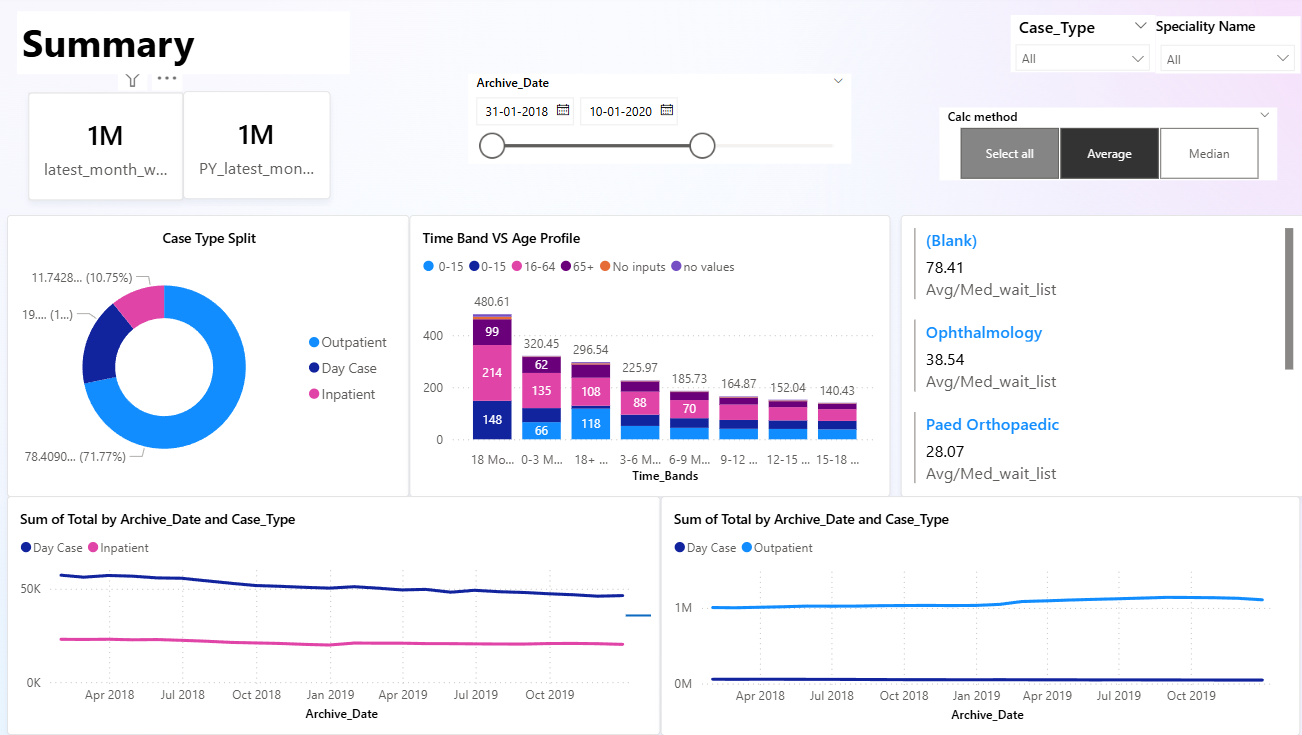

Layout of this report page (visuals, bound fields, positions):
{"tool":"powerbi","page":{"name":"Summary","canvas":[1280,720],"ordinal":0},"visuals":[{"type":"card","fields":{"Values":["All_Data.latest_month_wait_list"]},"box":[30.2,90.6,152.3,105.7],"z":0},{"type":"card","fields":{"Values":["All_Data.PY_latest_month_wait_list"]},"box":[182.5,89.2,144.1,105.7],"z":1000},{"type":"slicer","fields":{"Values":["Calculation Method.Calc method"]},"box":[922.1,105.7,330.7,71.4],"z":2000},{"type":"donutChart","title":"Case Type Split","fields":{"Category":["All_Data.Case_Type"],"Y":["All_Data.Avg/Med_wait_list"]},"box":[9.6,209.9,393.8,275.8],"z":3000},{"type":"columnChart","title":"Time Band VS Age Profile","fields":{"Series":["All_Data.Age_Profile"],"Y":["All_Data.Avg/Med_wait_list"],"Category":["All_Data.Time_Bands"]},"box":[403.4,209.9,470.7,275.8],"z":4000},{"type":"multiRowCard","fields":{"Values":["All_Data.Specialty_Name","All_Data.Avg/Med_wait_list"]},"box":[883.7,209.9,396.6,275.8],"z":5000},{"type":"lineChart","fields":{"Category":["All_Data.Archive_Date"],"Y":["Sum(All_Data.Total)"],"Series":["All_Data.Case_Type"]},"box":[9.6,485.8,639.5,233.3],"z":6000},{"type":"lineChart","fields":{"Category":["All_Data.Archive_Date"],"Y":["Sum(All_Data.Total)"],"Series":["All_Data.Case_Type"]},"box":[649.1,485.8,625.7,234.6],"z":7000},{"type":"slicer","fields":{"Values":["All_Data.Archive_Date"]},"box":[461.1,72.7,374.6,87.8],"z":8000},{"type":"slicer","fields":{"Values":["All_Data.Case_Type"]},"box":[992.1,15.1,141.3,56.3],"z":9000},{"type":"slicer","title":"Speciality Name","fields":{"Values":["All_Data.Specialty_Name"]},"box":[1133.5,16.5,141.3,56.3],"z":10000},{"type":"textbox","box":[19.2,11,325.2,61.7],"z":11000},{"type":"shape","box":[614.8,485.8,24.7,233.3],"z":12000}]}

Visuals, with their boxes in screenshot pixels (x1, y1, x2, y2), scaled from the page's 1280x720 canvas onto the 1302x735 screenshot:
card - All_Data.latest_month_wait_list: <bbox>31, 92, 186, 200</bbox>
card - All_Data.PY_latest_month_wait_list: <bbox>186, 91, 332, 199</bbox>
slicer - Calculation Method.Calc method: <bbox>938, 108, 1274, 181</bbox>
"Case Type Split" donutChart: <bbox>10, 214, 410, 496</bbox>
"Time Band VS Age Profile" columnChart: <bbox>410, 214, 889, 496</bbox>
multiRowCard - All_Data.Specialty_Name x All_Data.Avg/Med_wait_list: <bbox>899, 214, 1301, 496</bbox>
lineChart - All_Data.Archive_Date x Sum(All_Data.Total): <bbox>10, 496, 660, 734</bbox>
lineChart - All_Data.Archive_Date x Sum(All_Data.Total): <bbox>660, 496, 1297, 734</bbox>
slicer - All_Data.Archive_Date: <bbox>469, 74, 850, 164</bbox>
slicer - All_Data.Case_Type: <bbox>1009, 15, 1153, 73</bbox>
"Speciality Name" slicer: <bbox>1153, 17, 1297, 74</bbox>
textbox: <bbox>20, 11, 350, 74</bbox>
shape: <bbox>625, 496, 650, 734</bbox>
